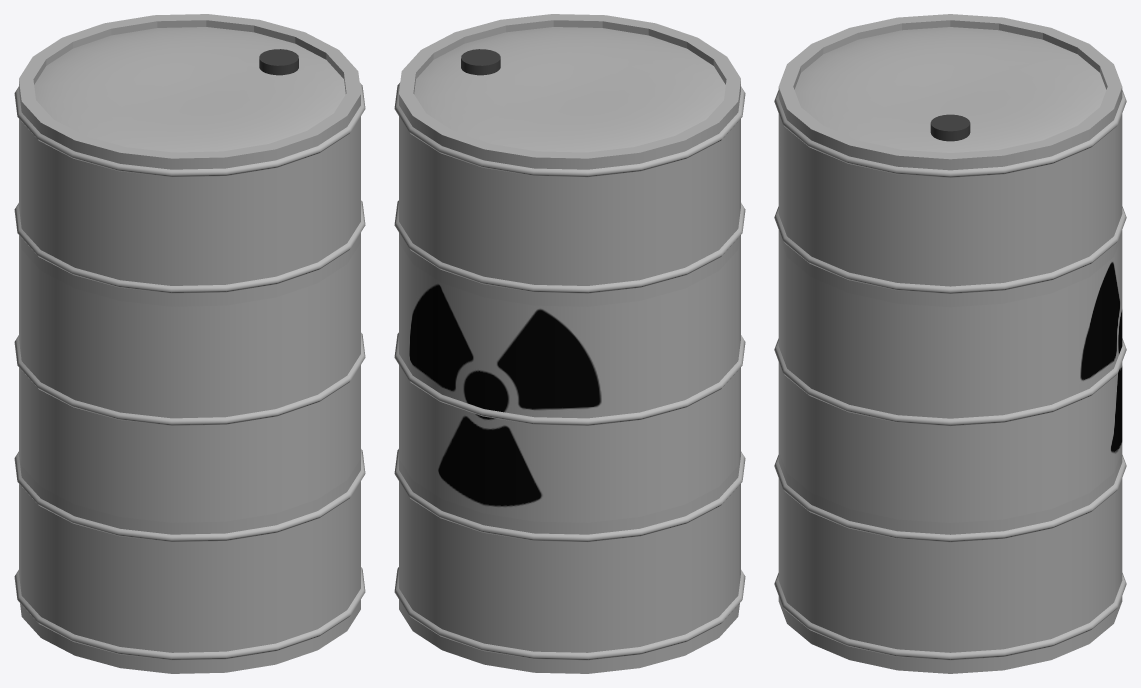
The model's file is ToxicBarrel.fbx.
3 renders of one model, left to right at view 1: azimuth 30°, elevation 25°; view 2: azimuth 150°, elevation 25°; view 3: azimuth 270°, elevation 25°, orthographic.
Visible parts, largest first — view 1: ToxicBarrel; view 2: ToxicBarrel; view 3: ToxicBarrel.
Part boxes in pixels (box(x1,y1,x2,y2)): ToxicBarrel: box(14, 14, 365, 673); ToxicBarrel: box(394, 14, 745, 673); ToxicBarrel: box(774, 14, 1126, 673).
Bounding box in the file's own units: 53.87 × 87.97 × 53.87.
3 materials, 1 textured.
